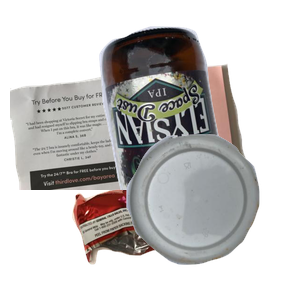glass: (97, 24, 300, 204)
paper: (10, 61, 250, 241)
plastic: (124, 132, 300, 300)
trash: (70, 162, 257, 300)
